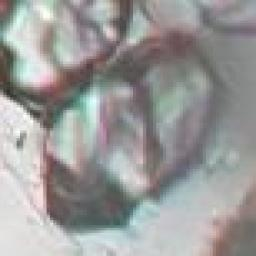crystals: (39, 25, 221, 235)
